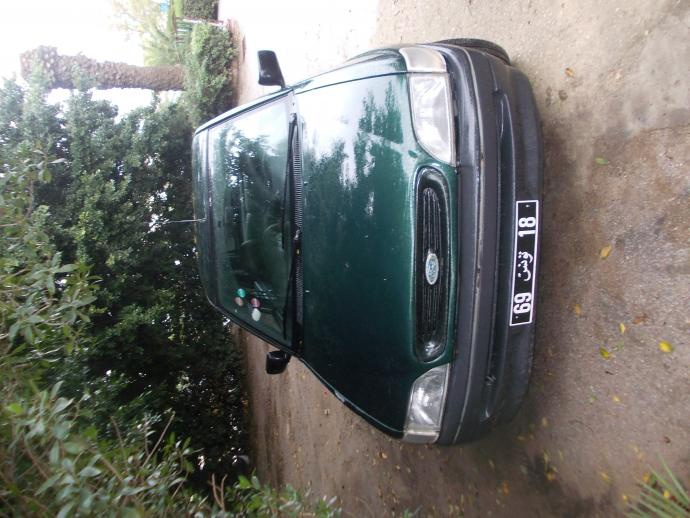LP: (506, 199, 544, 330)
